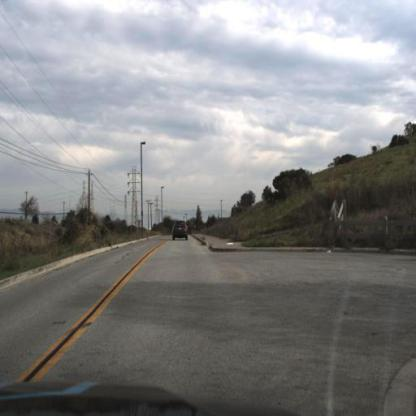car: (170, 218, 189, 244)
